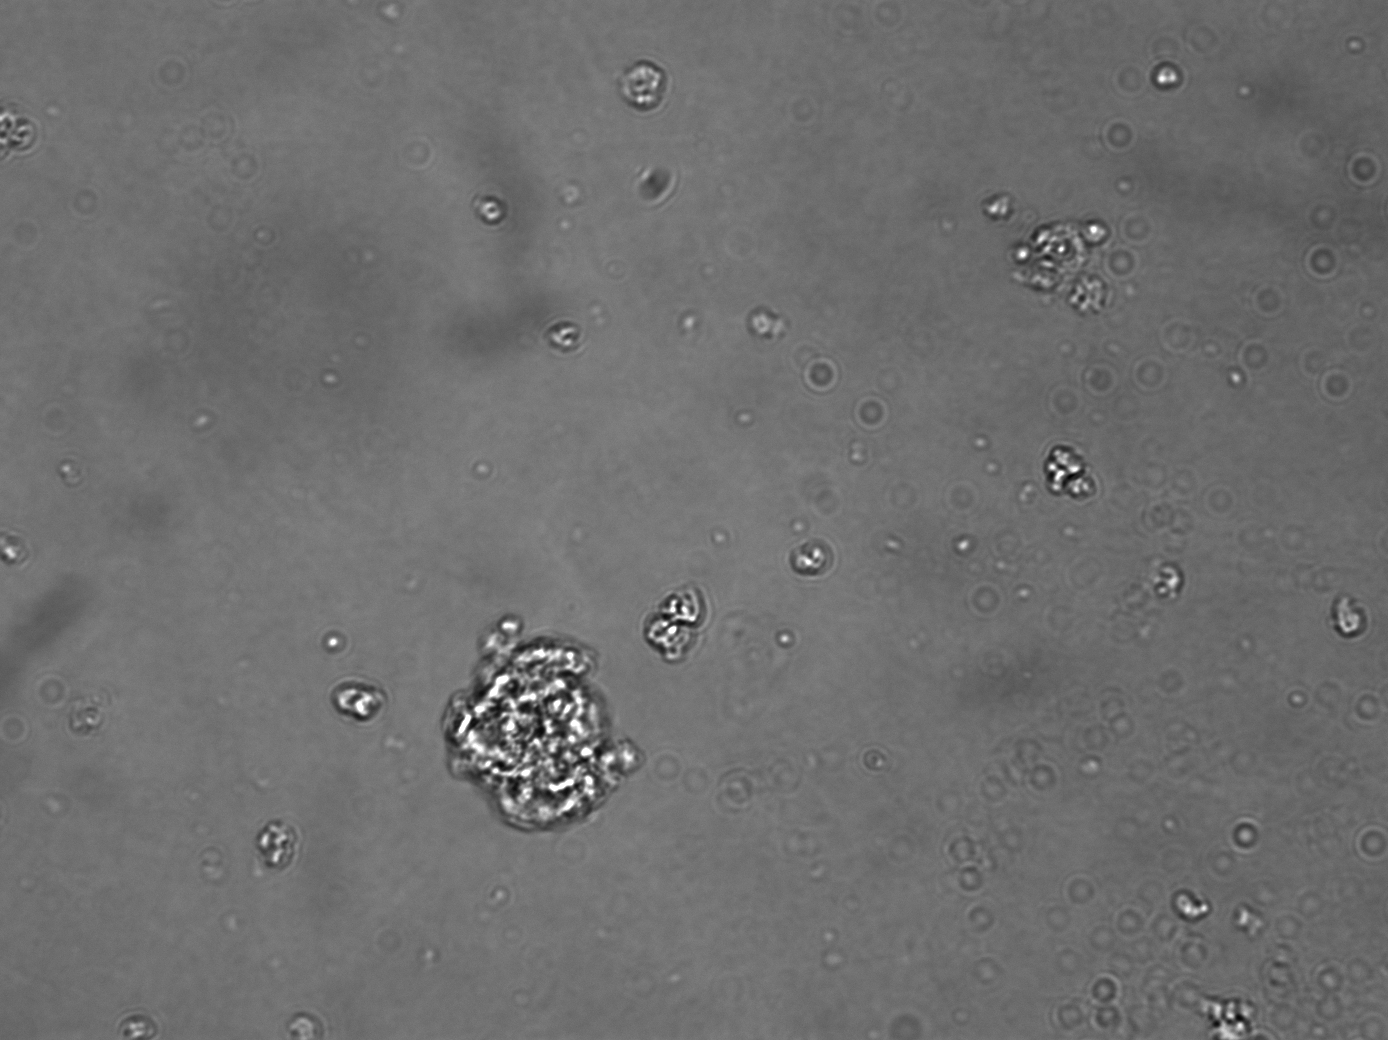ceil: (442, 611, 645, 835), (1007, 215, 1115, 319), (643, 580, 715, 664), (1039, 444, 1100, 503), (327, 677, 391, 724), (253, 818, 300, 872)
